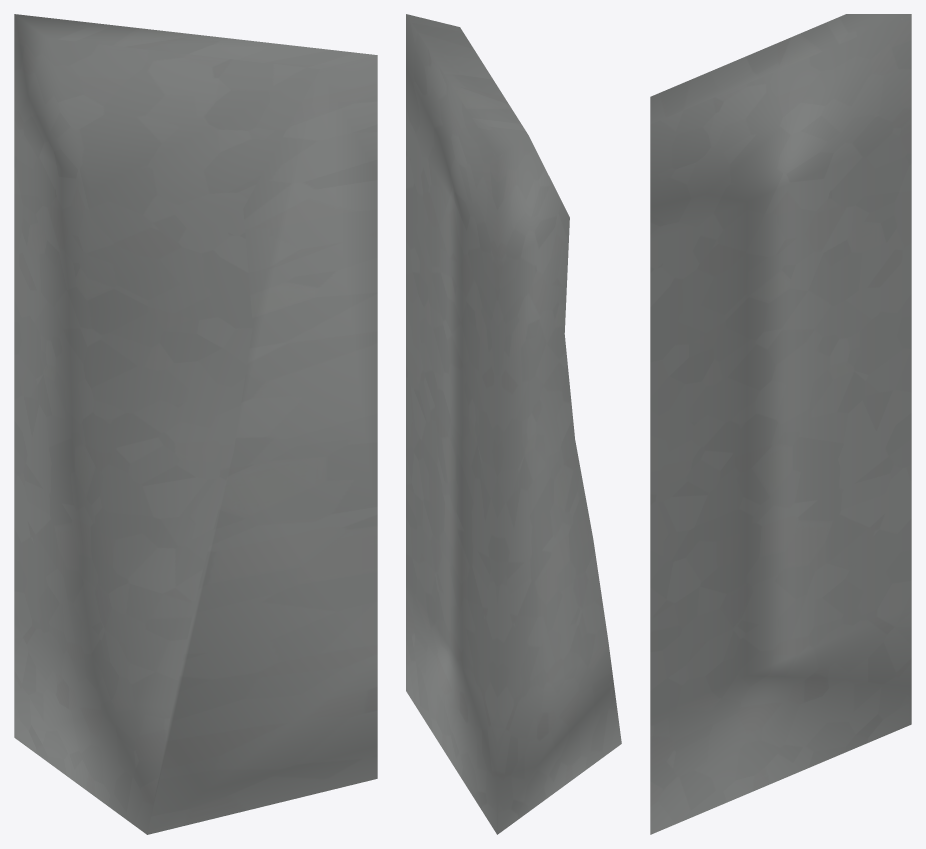
The model's file is cornerInt.glb.
The picture shows the model from 3 angles, left to right: view 1: azimuth 30°, elevation 25°; view 2: azimuth 150°, elevation 25°; view 3: azimuth 270°, elevation 25°; orthographic projection. The views are drawn at different scales.
Parts seen in each view (by area): view 1: CornerExt; view 2: CornerExt; view 3: CornerExt.
Part boxes in pixels (box(x1,y1,x2,y2)): CornerExt: box(14, 14, 377, 834); CornerExt: box(406, 14, 621, 834); CornerExt: box(650, 14, 911, 834).
Size of the model in its own units: 2 by 6 by 2.
Materials: 1 (1 with a texture image).
